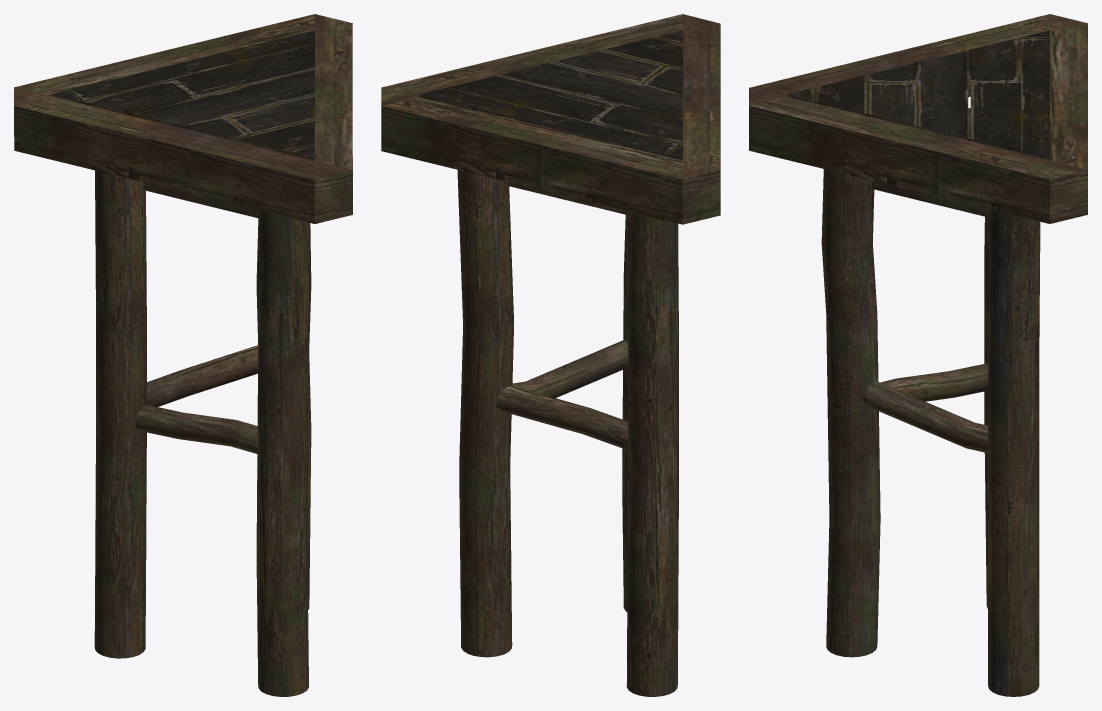
The picture shows the model from 3 angles, left to right: view 1: azimuth 30°, elevation 25°; view 2: azimuth 150°, elevation 25°; view 3: azimuth 270°, elevation 25°; orthographic projection.
Parts seen in each view (by area): view 1: SM_BB_T1_Foundation_Trangle_Med_LOD0; view 2: SM_BB_T1_Foundation_Trangle_Med_LOD0; view 3: SM_BB_T1_Foundation_Trangle_Med_LOD0.
Part boxes in pixels (bbox=[...]): SM_BB_T1_Foundation_Trangle_Med_LOD0: bbox=[14, 14, 352, 696]; SM_BB_T1_Foundation_Trangle_Med_LOD0: bbox=[381, 14, 720, 696]; SM_BB_T1_Foundation_Trangle_Med_LOD0: bbox=[749, 14, 1087, 696].
Bounding box in the file's own units: 1.93 × 3.01 × 1.67.
Materials: 2 (2 with a texture image).
